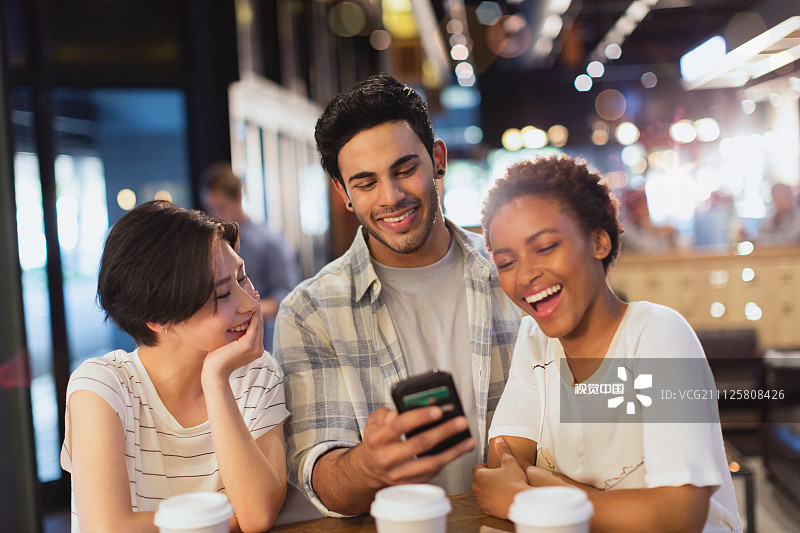reading: (345, 367, 487, 498)
